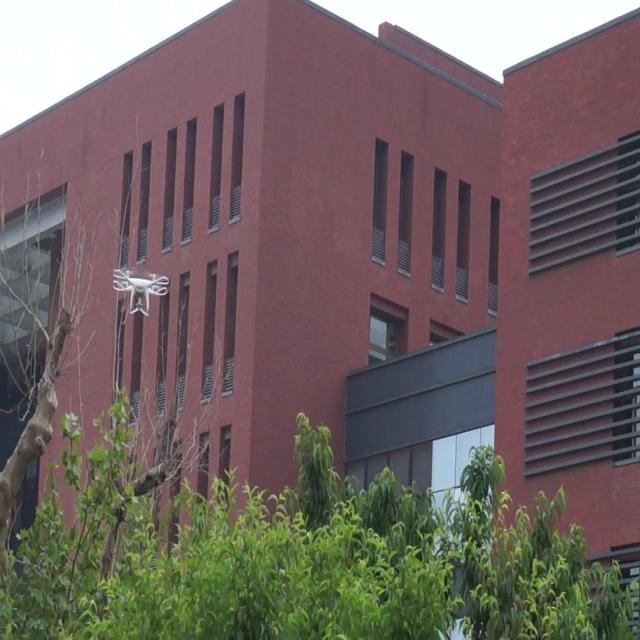UAV: (112, 268, 169, 316)
